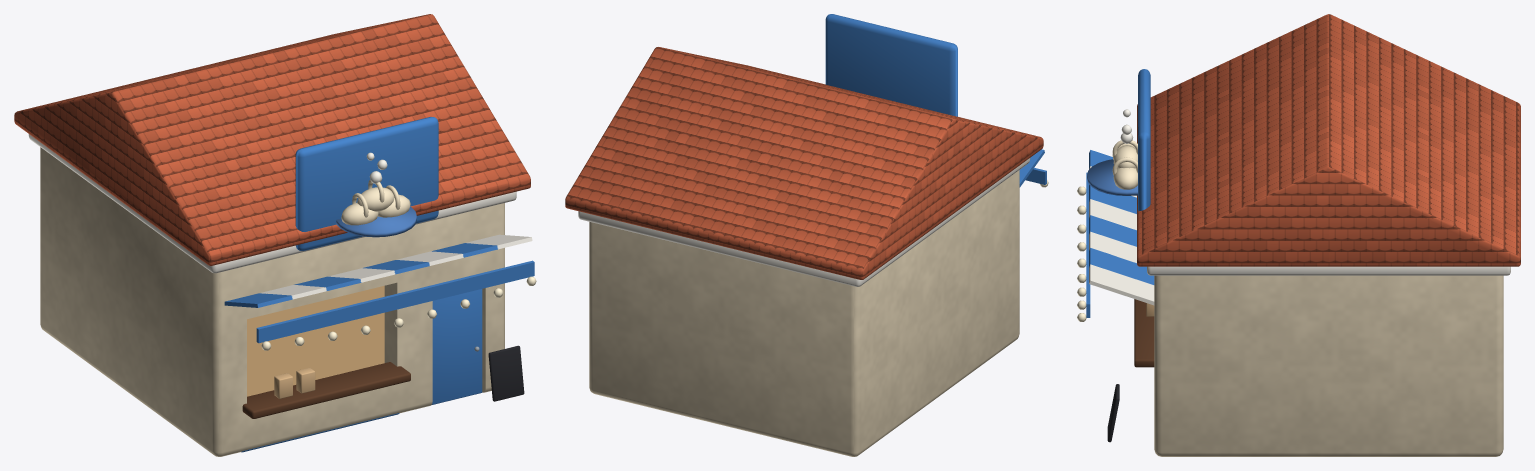
The model's file is restaurant_dumplings.gltf.
3 views of the same model, side by side, from view 1: azimuth 30°, elevation 25°; view 2: azimuth 150°, elevation 25°; view 3: azimuth 270°, elevation 25° (orthographic). The views are drawn at different scales.
Visible parts, largest first — view 1: restaurant_dumplings_mesh, INT_door_restaurant_dumplings, restaurant_dumplings_sign, INT_counter_dumplings; view 2: restaurant_dumplings_mesh; view 3: restaurant_dumplings_mesh, restaurant_dumplings_sign, INT_counter_dumplings.
Part boxes in pixels (bbox=[...]): restaurant_dumplings_mesh: bbox=[14, 14, 534, 456]; INT_door_restaurant_dumplings: bbox=[432, 289, 482, 404]; restaurant_dumplings_sign: bbox=[261, 152, 536, 350]; INT_counter_dumplings: bbox=[242, 362, 410, 418]; restaurant_dumplings_mesh: bbox=[565, 14, 1046, 456]; restaurant_dumplings_mesh: bbox=[1086, 14, 1520, 456]; restaurant_dumplings_sign: bbox=[1077, 109, 1137, 321]; INT_counter_dumplings: bbox=[1134, 299, 1154, 367].
Size of what is drawn, in the model's own units: 7.3 by 6.64 by 8.9.
Materials: 15 (2 with a texture image).
